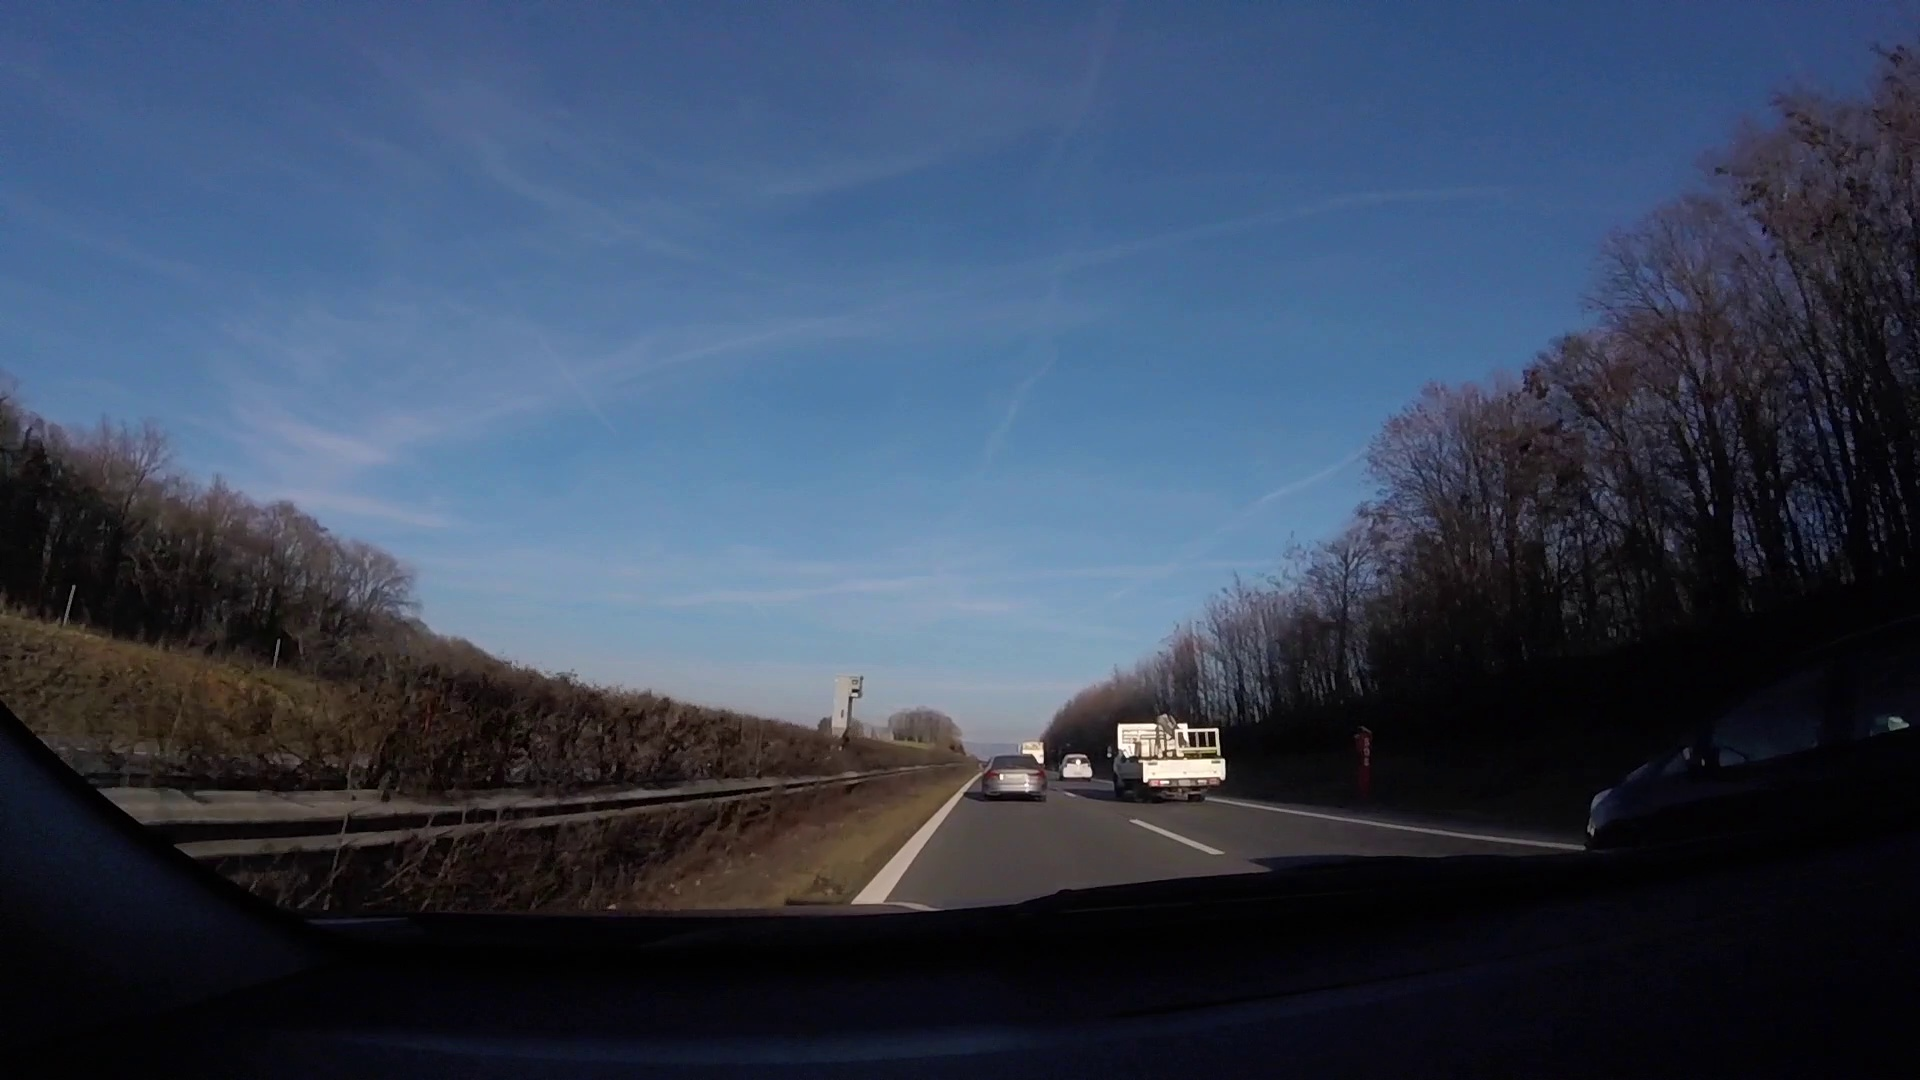radar: (829, 673, 865, 742)
